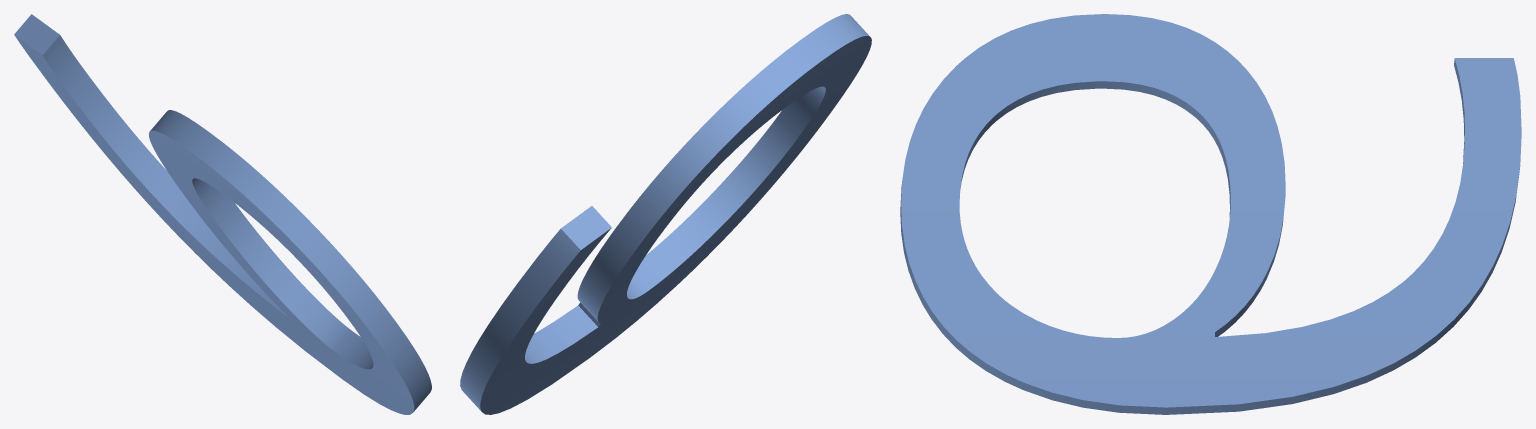
The model's file is New_Number_9.gltf.
3 views of the same model, side by side, from view 1: azimuth 30°, elevation 25°; view 2: azimuth 150°, elevation 25°; view 3: azimuth 270°, elevation 25° (orthographic). The views are drawn at different scales.
Parts seen in each view (by area): view 1: Part 261; view 2: Part 261; view 3: Part 261.
Part boxes in pixels (x1=…): Part 261: x1=14, y1=14, x2=431, y2=414; Part 261: x1=460, y1=14, x2=871, y2=414; Part 261: x1=900, y1=14, x2=1521, y2=414.
Bounding box in the file's own units: 0.00216 × 0.00321 × 0.00567.
